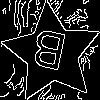B: (26, 28, 69, 81)
